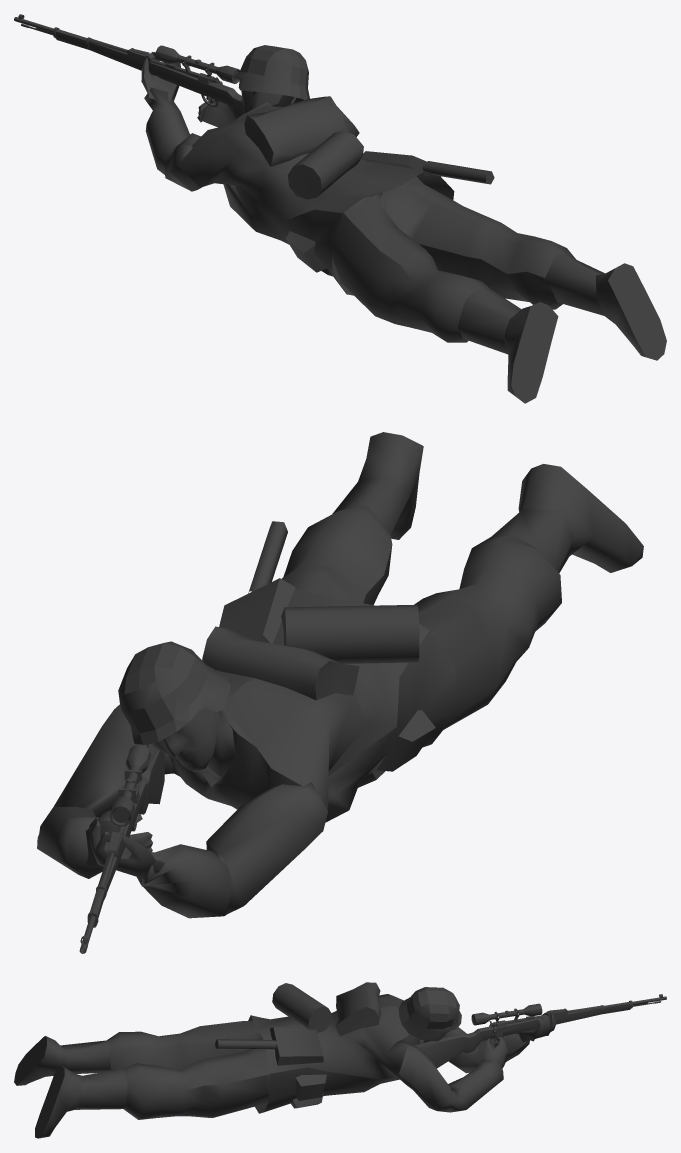
File: de_ott_prono.glb
3 renders of one model, top to bottom at view 1: azimuth 30°, elevation 25°; view 2: azimuth 150°, elevation 25°; view 3: azimuth 270°, elevation 25°, orthographic. The views are drawn at different scales.
Parts seen in each view (by area): view 1: SketchUp.055_ID340_2; view 2: SketchUp.055_ID340_2; view 3: SketchUp.055_ID340_2.
Part boxes in pixels (box(x1,y1,x2,y2)): SketchUp.055_ID340_2: box(14, 14, 666, 403); SketchUp.055_ID340_2: box(37, 432, 643, 953); SketchUp.055_ID340_2: box(14, 982, 666, 1138).
Size of the model in its own units: 0.2286 by 0.1494 by 0.746.
Materials: 1 (1 with a texture image).
